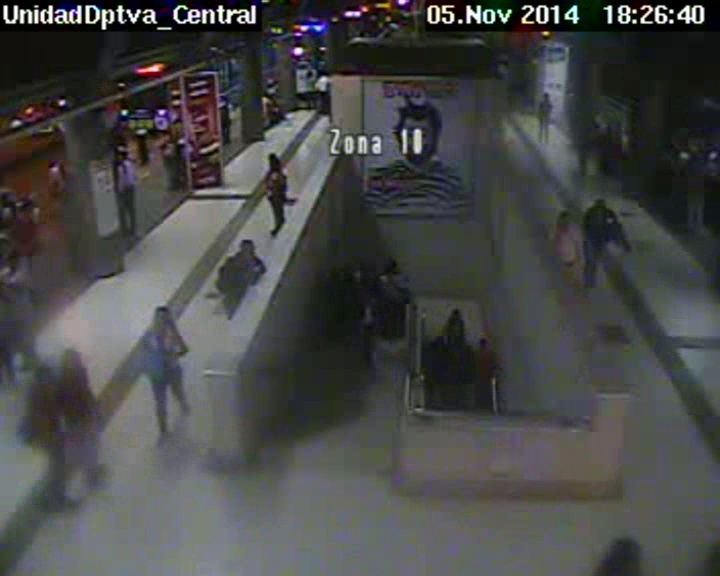person: (149, 306, 170, 327), (590, 195, 610, 216), (60, 349, 80, 370), (48, 162, 69, 182), (16, 196, 34, 218), (238, 237, 256, 256), (34, 363, 52, 382), (554, 211, 572, 229), (673, 154, 687, 170), (115, 150, 129, 165), (232, 256, 245, 272), (350, 272, 364, 286), (692, 141, 705, 155), (540, 92, 553, 104), (377, 274, 389, 287), (362, 305, 373, 317), (271, 158, 281, 171), (450, 309, 461, 320), (218, 91, 229, 102), (479, 338, 489, 350), (578, 116, 588, 126), (115, 117, 125, 126), (305, 65, 313, 76), (166, 134, 175, 143), (586, 145, 595, 154), (320, 66, 327, 74), (390, 261, 398, 268), (261, 90, 268, 97), (269, 71, 276, 78)
